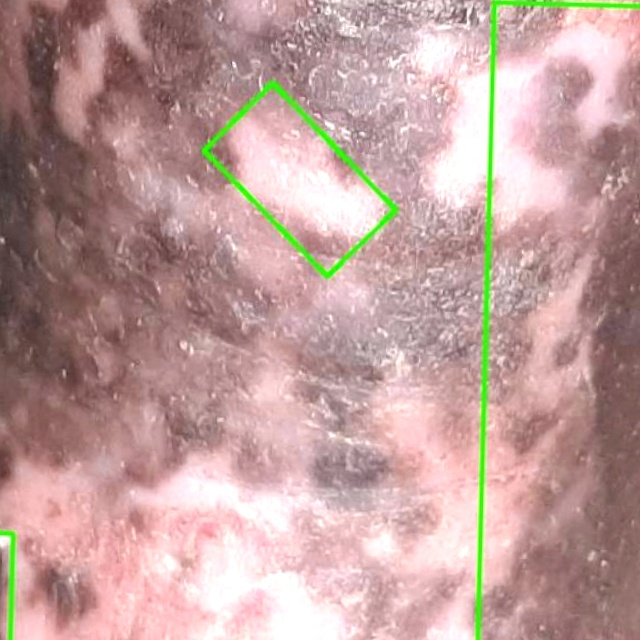Eczema: (477, 2, 639, 639), (204, 83, 396, 277)
